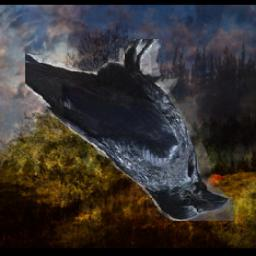Crow: (24, 40, 233, 222)
